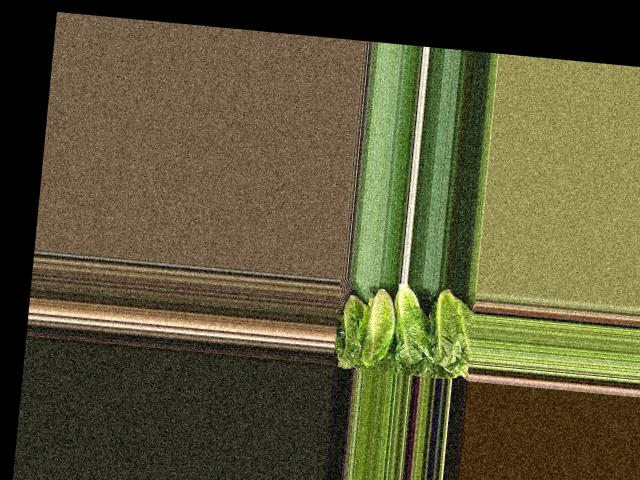lettuce: (338, 296, 366, 370)
